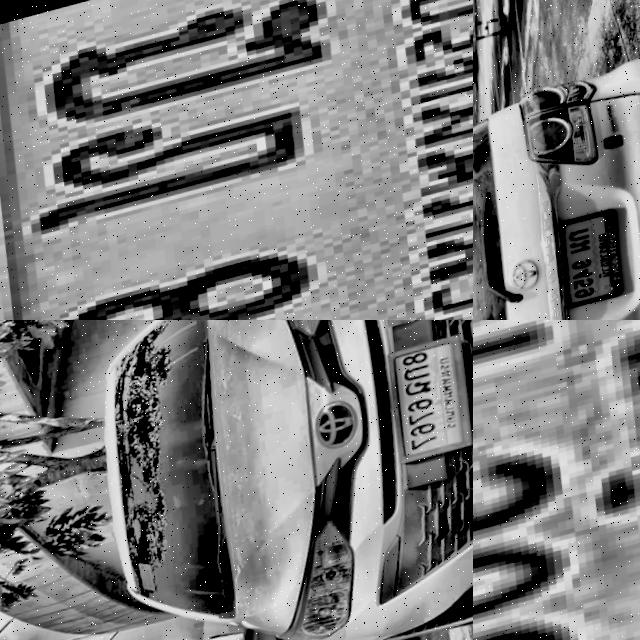license-plate: (0, 0, 473, 320), (473, 320, 640, 640), (382, 343, 473, 477), (555, 215, 633, 319)
